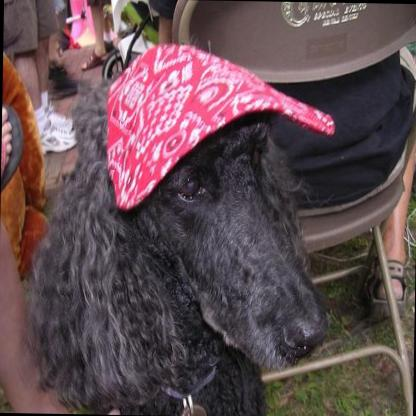standard_poodle: (15, 47, 332, 416)
